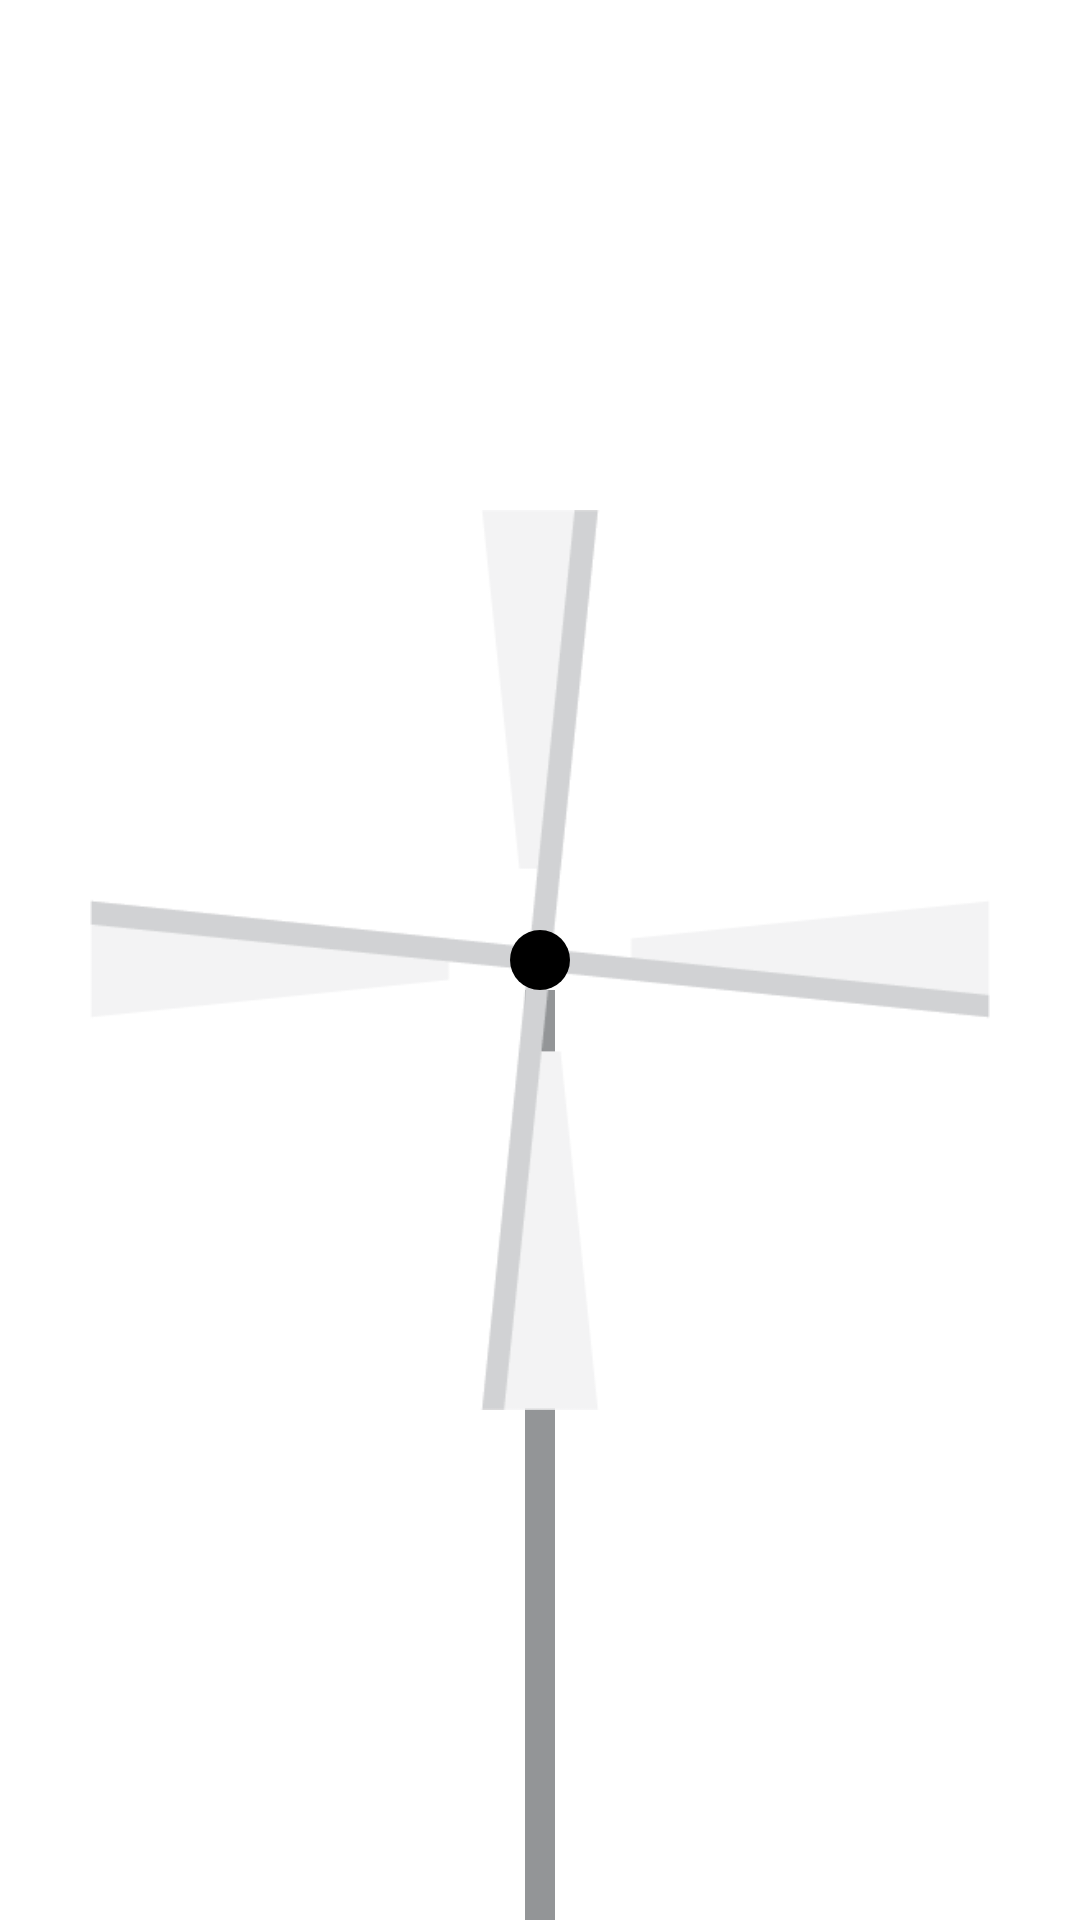

Locate icon controls on the screen. Image size 1080 × 1920, boxes as box=[x1, y1, x2, y2].
windmill center: box=[510, 930, 570, 990]
